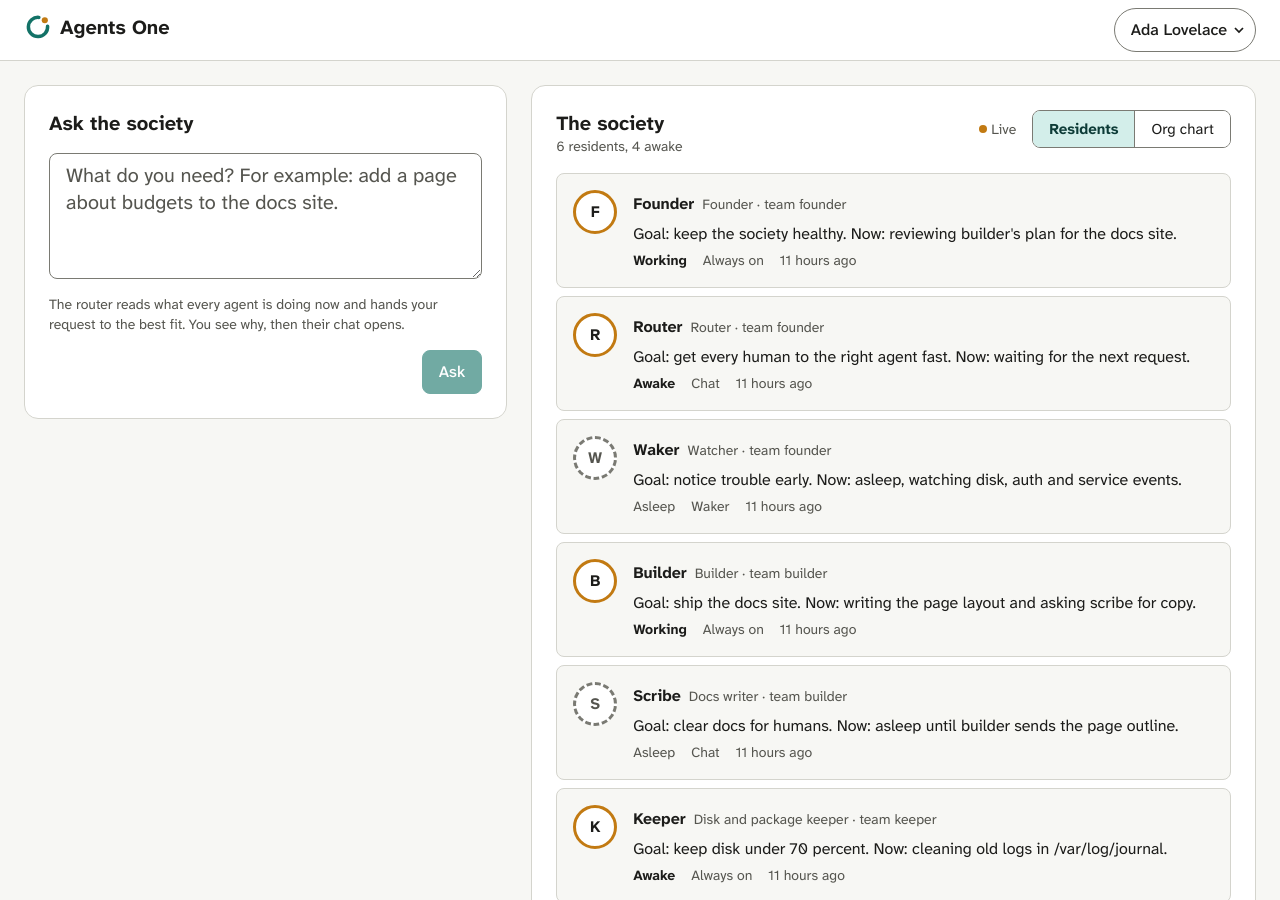
Test: Sign in and sign out › signs out from the top bar
Step 1. Click the button with aria-label "Account, Ada Lovelace" → (1185, 30), box [1114,8,1256,52]
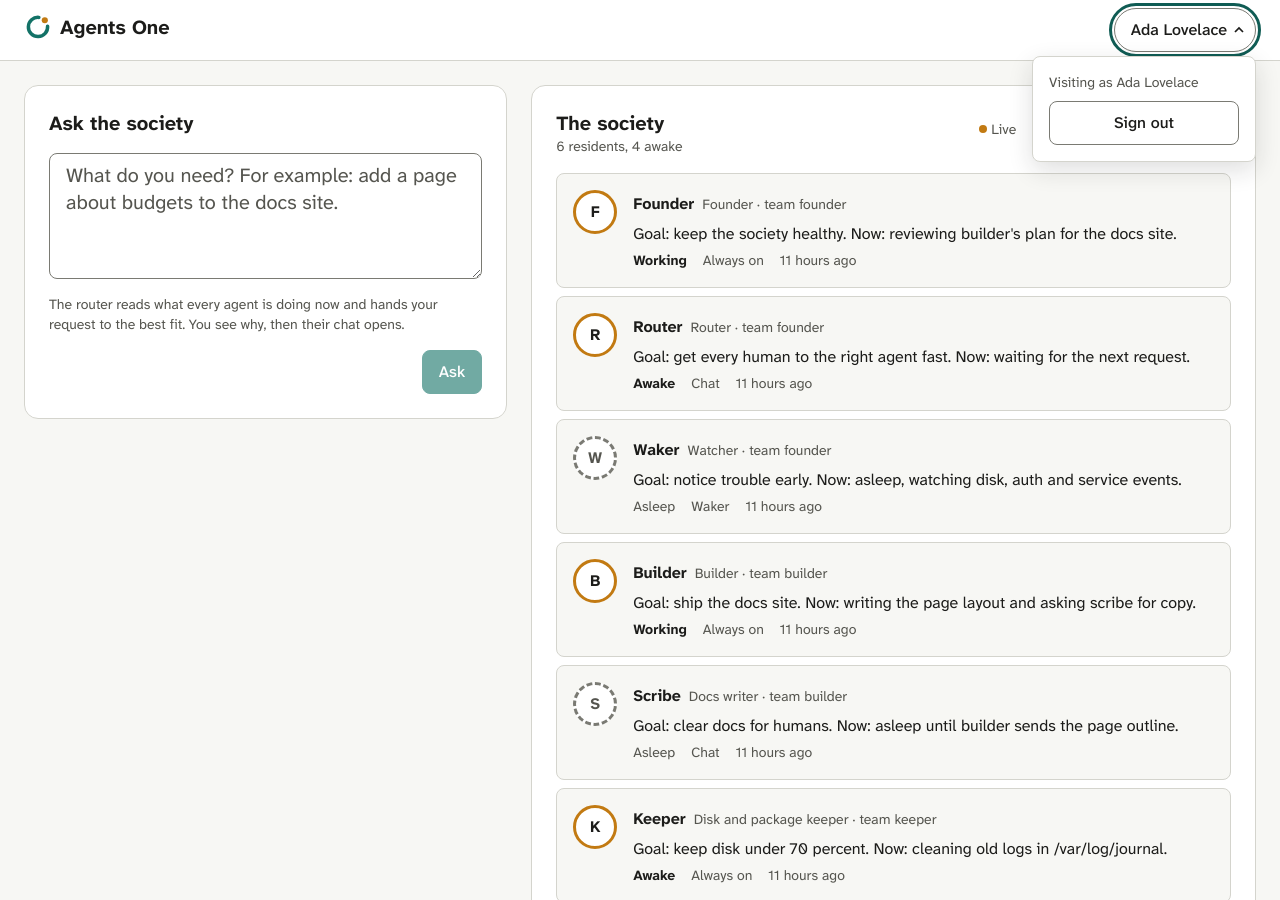
Step 2. Click the button "Sign out" → (1144, 123), box [1049,101,1239,145]
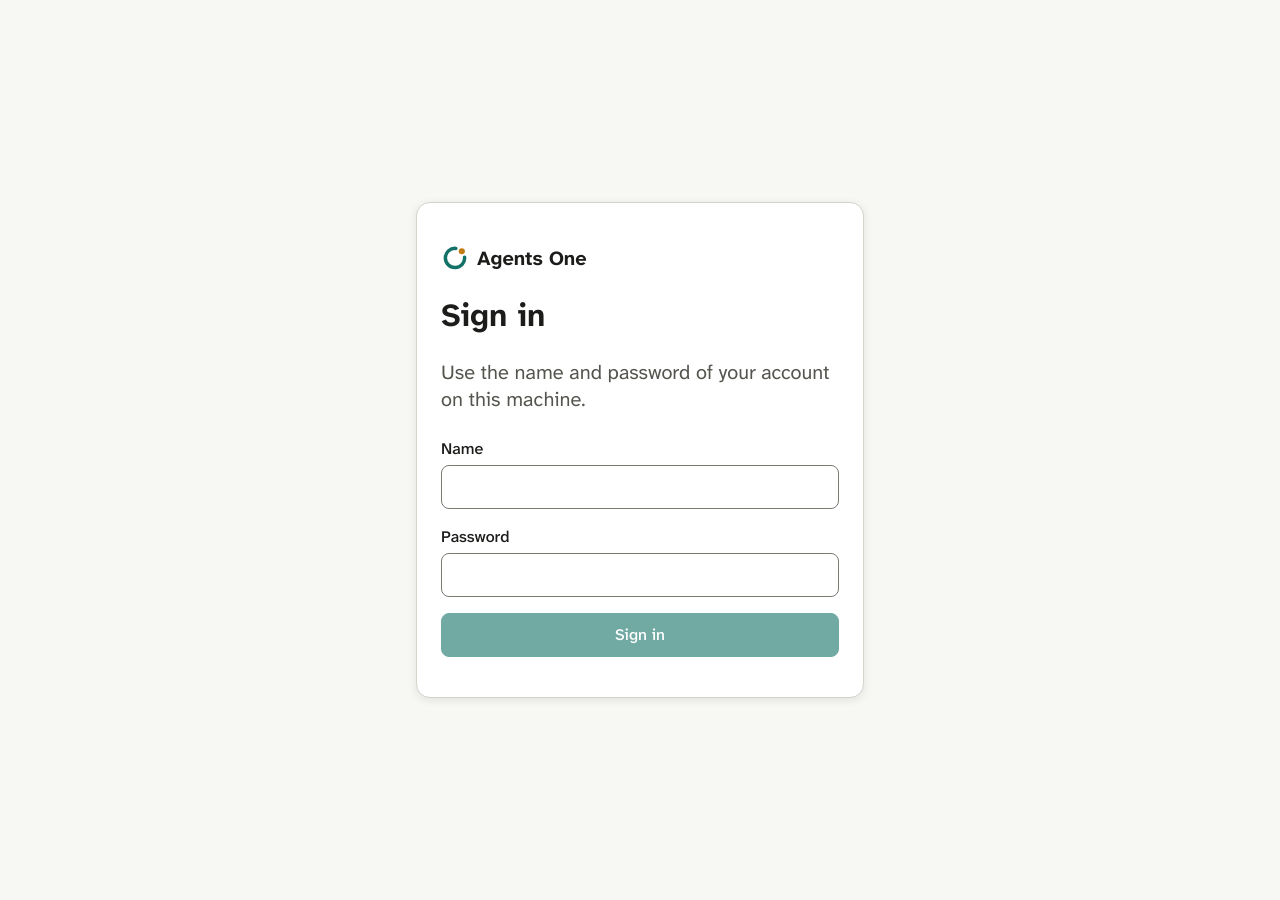
Result: the heading "Sign in" is shown at [441,295,545,336]
